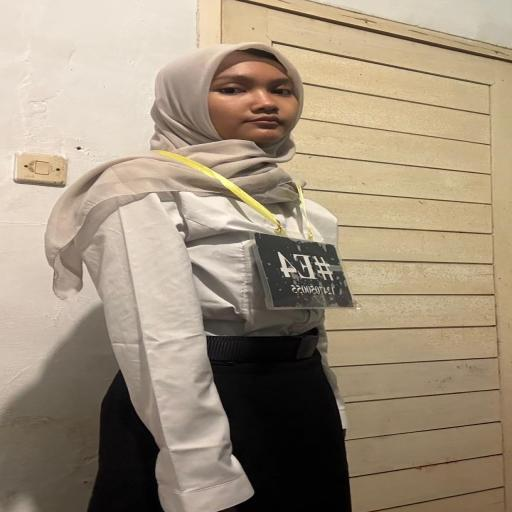kemeja_benar: (52, 184, 356, 340)
kerudung_salah: (73, 42, 325, 201)
nametag_ada: (220, 195, 378, 318)
rok_benar: (101, 358, 355, 512)
sabuk_ada: (194, 331, 325, 364)
